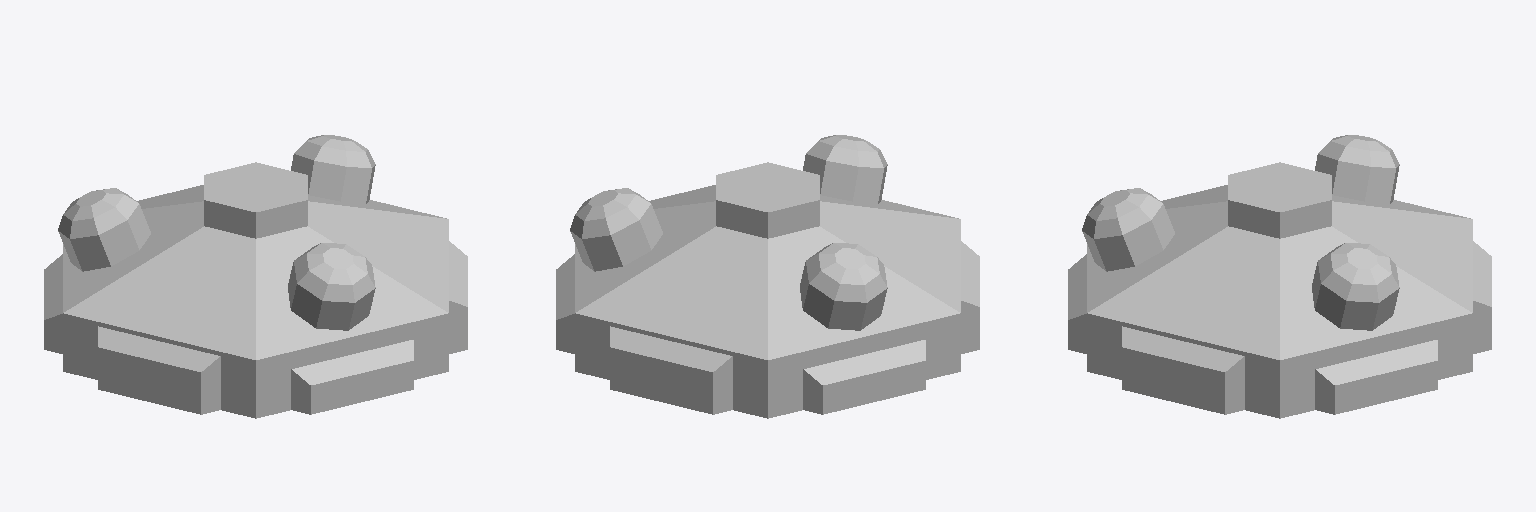
Rendered from legadvsolbase.obj.
The picture shows the model from 3 angles: view 1: azimuth 30°, elevation 25°; view 2: azimuth 150°, elevation 25°; view 3: azimuth 270°, elevation 25°; orthographic projection.
Parts seen in each view (by area): view 1: base,ox=-0.00,oy=0.00,oz=0.00,p=,mx=-0.00,my=20.00,mz=0.00,r=35; view 2: base,ox=-0.00,oy=0.00,oz=0.00,p=,mx=-0.00,my=20.00,mz=0.00,r=35; view 3: base,ox=-0.00,oy=0.00,oz=0.00,p=,mx=-0.00,my=20.00,mz=0.00,r=35.
Boxes of the visible parts, <box> form: base,ox=-0.00,oy=0.00,oz=0.00,p=,mx=-0.00,my=20.00,mz=0.00,r=35: <box>44,135,467,418</box>; base,ox=-0.00,oy=0.00,oz=0.00,p=,mx=-0.00,my=20.00,mz=0.00,r=35: <box>556,135,979,418</box>; base,ox=-0.00,oy=0.00,oz=0.00,p=,mx=-0.00,my=20.00,mz=0.00,r=35: <box>1068,135,1491,418</box>.
Size of the model in its own units: 61.66 by 20.9 by 58.74.